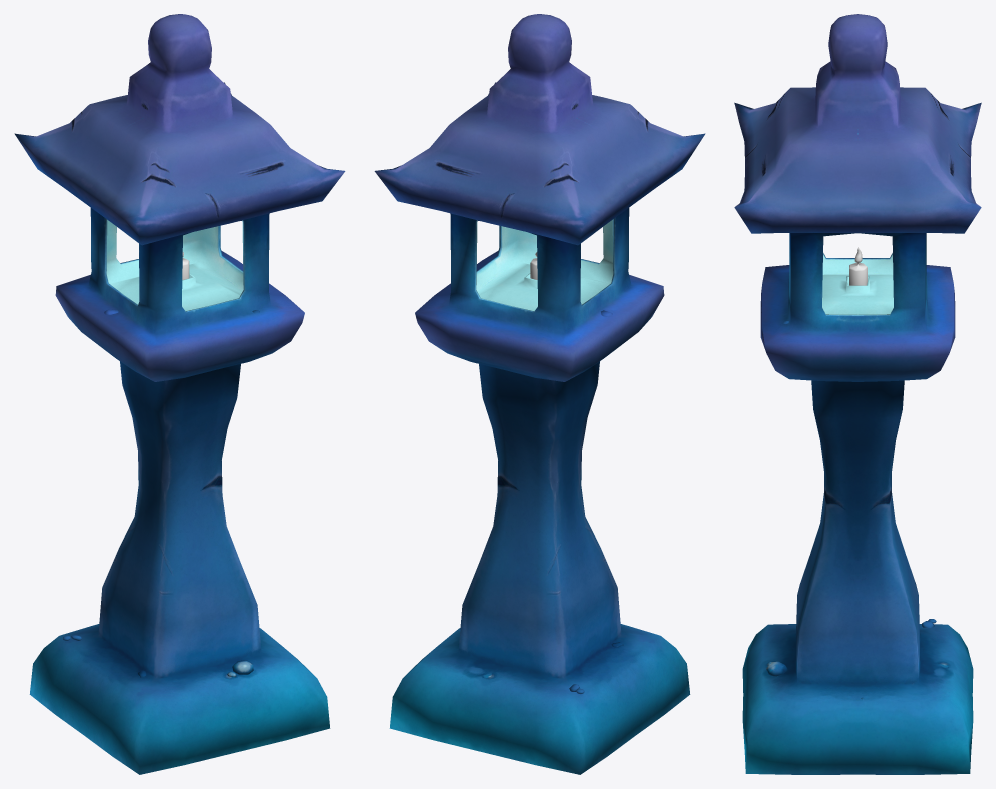
File: lampara40.fbx
3 views of the same model, side by side, from view 1: azimuth 30°, elevation 25°; view 2: azimuth 150°, elevation 25°; view 3: azimuth 270°, elevation 25° (orthographic). The views are drawn at different scales.
Visible parts, largest first — view 1: лампа; view 2: лампа; view 3: лампа, Cylinder.
Boxes of the visible parts, box(x1,y1,x2,y2) form: лампа: box(14, 14, 345, 774); лампа: box(374, 14, 705, 774); лампа: box(734, 14, 981, 774); Cylinder: box(849, 247, 867, 285).
Bounding box in the file's own units: 214 × 674 × 213.
3 materials, 1 textured.
